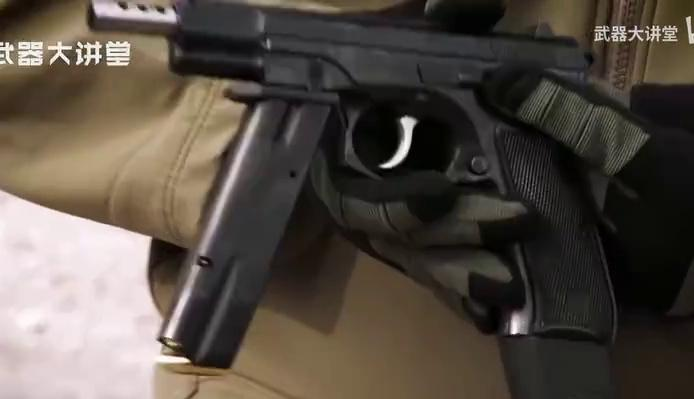gun: (1, 1, 694, 399)
